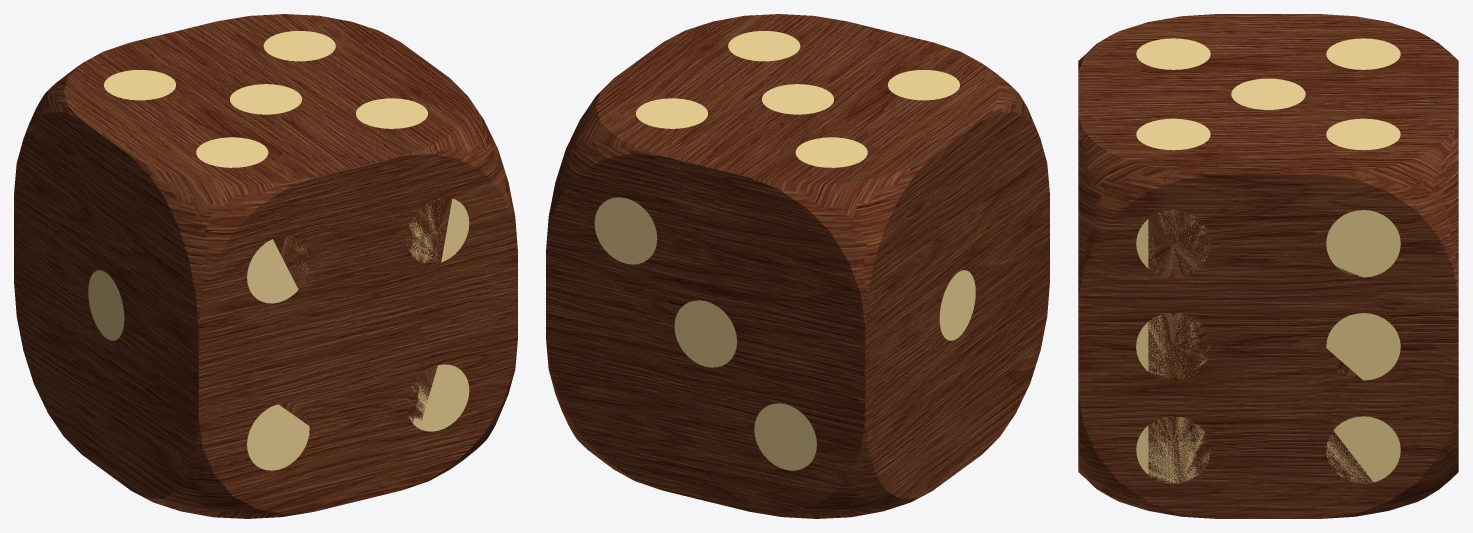
File: Dice.fbx
The picture shows the model from 3 angles, left to right: view 1: azimuth 30°, elevation 25°; view 2: azimuth 150°, elevation 25°; view 3: azimuth 270°, elevation 25°; orthographic projection. The views are drawn at different scales.
Visible parts, largest first — view 1: Dice; view 2: Dice; view 3: Dice.
Boxes of the visible parts, x1,y1,x2,y2 form: Dice: (14,14,517,518); Dice: (546,14,1049,518); Dice: (1078,14,1458,518).
Bounding box in the file's own units: 200 × 200 × 200.
